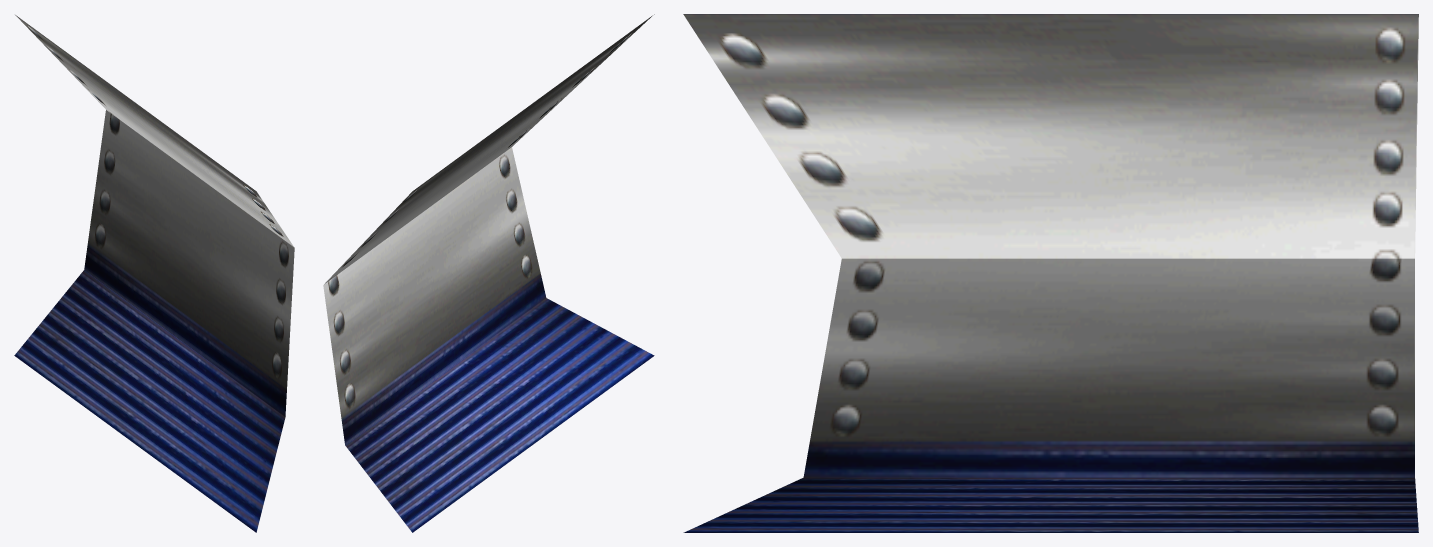
Rendered from W_AI_Gang_Schräg_R_Ministerium_2526.glb.
3 renders of one model, left to right at view 1: azimuth 30°, elevation 25°; view 2: azimuth 150°, elevation 25°; view 3: azimuth 270°, elevation 25°, orthographic. The views are drawn at different scales.
Parts seen in each view (by area): view 1: pPlaneShape155; view 2: pPlaneShape155; view 3: pPlaneShape155.
Boxes of the visible parts, x1,y1,x2,y2 form: pPlaneShape155: (14,15,294,532); pPlaneShape155: (323,14,654,532); pPlaneShape155: (683,14,1418,532).
Size of the model in its own units: 0.1079 by 0.3891 by 0.5.
1 material, 1 textured.
